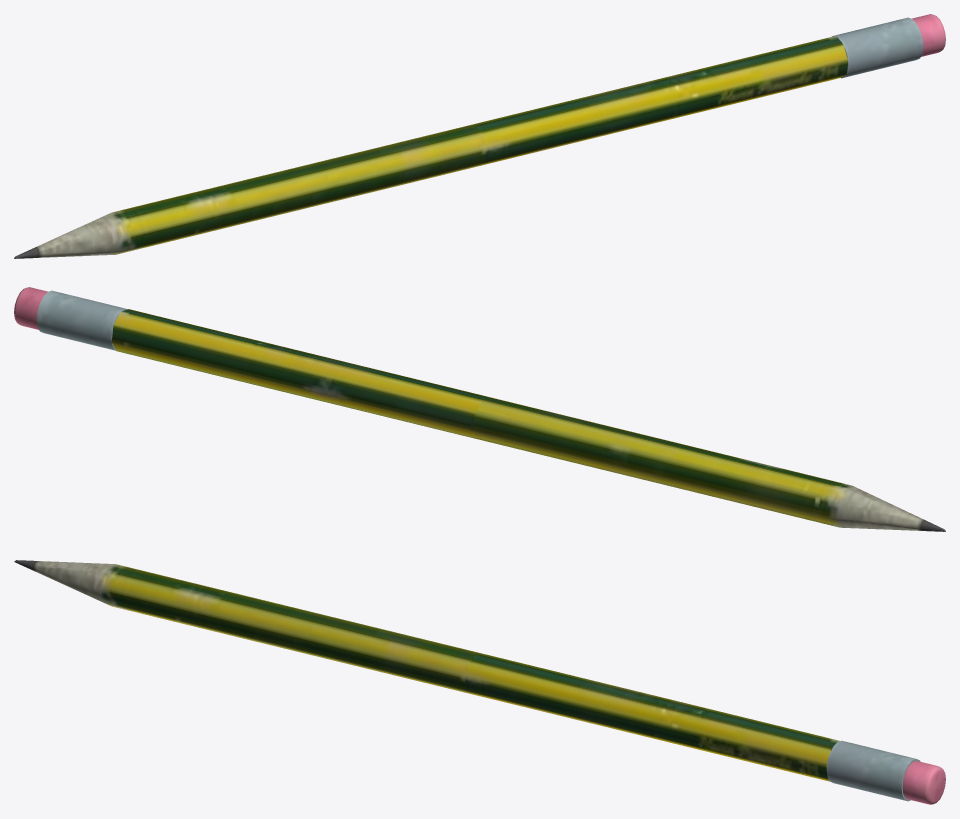
Rendered from pencil.glb.
3 views of the same model, one above another, from view 1: azimuth 30°, elevation 25°; view 2: azimuth 150°, elevation 25°; view 3: azimuth 330°, elevation 25° (orthographic).
Parts seen in each view (by area): view 1: stationery_supplies_pencil_new_a; view 2: stationery_supplies_pencil_new_a; view 3: stationery_supplies_pencil_new_a.
Boxes of the visible parts, left/top/right/bottom form: stationery_supplies_pencil_new_a: left=14, top=14, right=945, bottom=258; stationery_supplies_pencil_new_a: left=14, top=287, right=945, bottom=531; stationery_supplies_pencil_new_a: left=14, top=560, right=945, bottom=804.
Size of the model in its own units: 0.1939 by 0.00792 by 0.00792.
Materials: 1 (1 with a texture image).
